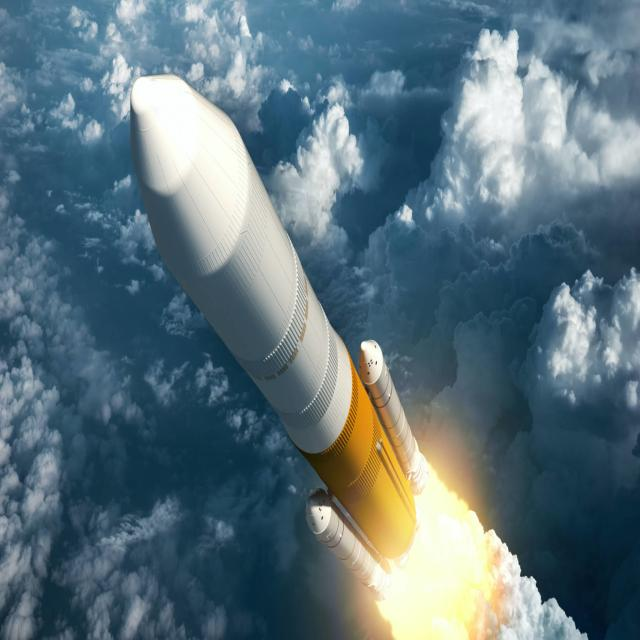large_debris: (0, 200, 133, 640), (430, 43, 598, 235), (101, 0, 291, 120), (512, 275, 640, 422)
medium_debris: (386, 426, 526, 640)
rocket: (125, 67, 432, 590)
